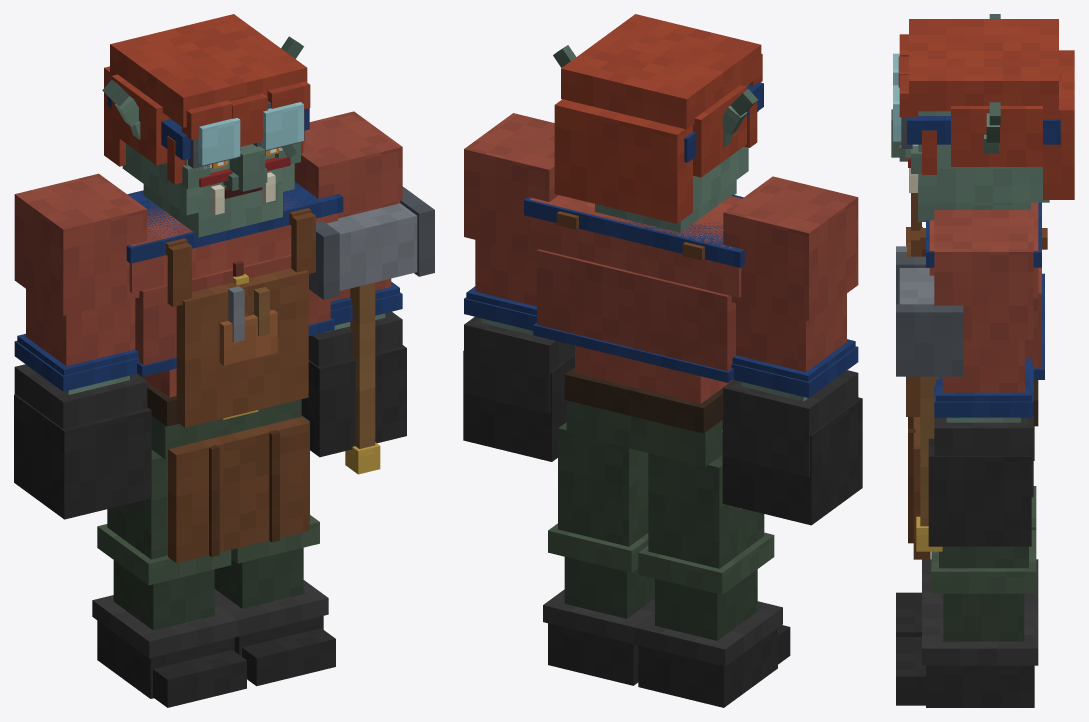
The model's file is hobgoblin_forgeron.glb.
The picture shows the model from 3 angles, left to right: view 1: azimuth 30°, elevation 25°; view 2: azimuth 150°, elevation 25°; view 3: azimuth 270°, elevation 25°; orthographic projection. The views are drawn at different scales.
Visible parts, largest first — view 1: Torso, ArmR, Head, LegR, ArmL, HandL, LegL; view 2: Torso, ArmR, Head, LegR, ArmL, LegL; view 3: Head, ArmL, LegL, HandL, Torso, LegR.
Boxes of the visible parts, x1,y1,x2,y2 form: Torso: (126, 182, 343, 563); ArmR: (14, 173, 151, 519); Head: (102, 14, 310, 237); LegR: (92, 450, 246, 707); ArmL: (294, 111, 406, 457); HandL: (309, 186, 434, 474); LegL: (214, 415, 335, 686); Torso: (524, 194, 744, 509); ArmR: (722, 176, 862, 525); Head: (553, 14, 763, 232); LegR: (633, 453, 790, 707); ArmL: (463, 113, 574, 461); LegL: (543, 422, 654, 685); Head: (891, 14, 1074, 221); ArmL: (928, 210, 1033, 546); LegL: (896, 530, 1038, 707); HandL: (896, 256, 963, 551); Torso: (896, 193, 1047, 559); LegR: (896, 486, 1038, 636).
Bounding box in the file's own units: 1.12 × 1.81 × 0.49.
Materials: 39 (39 with a texture image).
